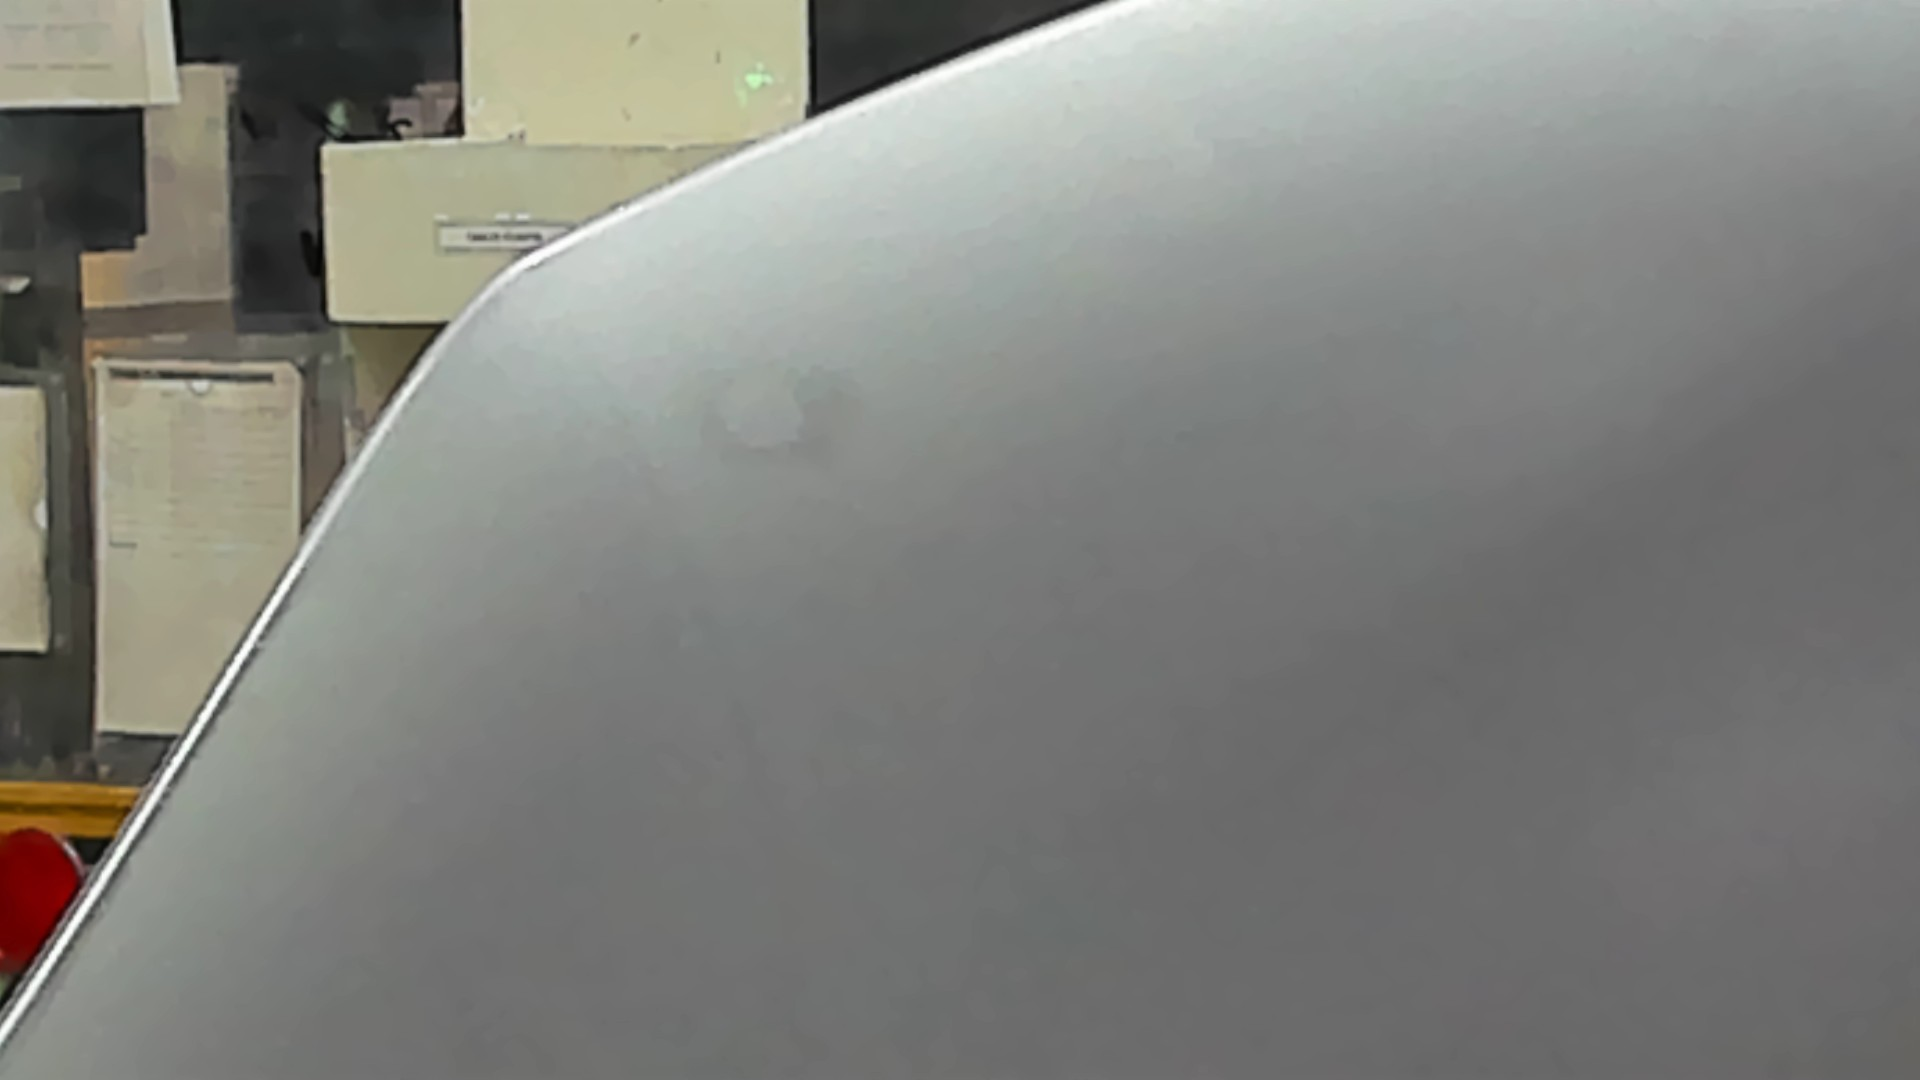capo: (724, 178, 1920, 1080)
